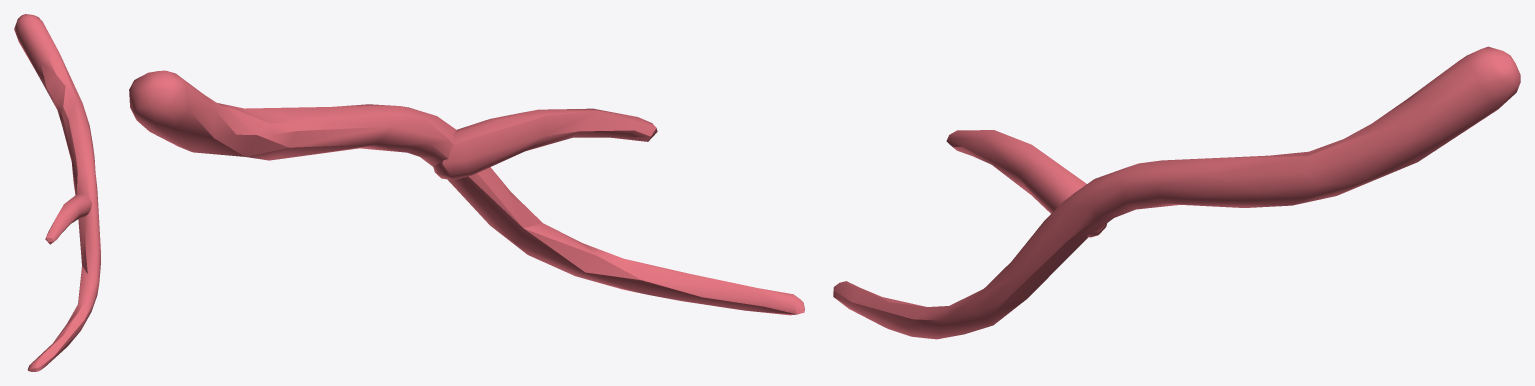
File: fma3872_cx65.glb
3 views of the same model, side by side, from view 1: azimuth 30°, elevation 25°; view 2: azimuth 150°, elevation 25°; view 3: azimuth 270°, elevation 25° (orthographic). The views are drawn at different scales.
Visible parts, largest first — view 1: FMA3872_CX65; view 2: FMA3872_CX65; view 3: FMA3872_CX65.
Boxes of the visible parts, left/top/right/bottom form: FMA3872_CX65: left=14, top=14, right=100, bottom=371; FMA3872_CX65: left=129, top=70, right=804, bottom=315; FMA3872_CX65: left=833, top=46, right=1520, bottom=339.
Size of the model in its own units: 0.0109 by 0.0119 by 0.0184.
